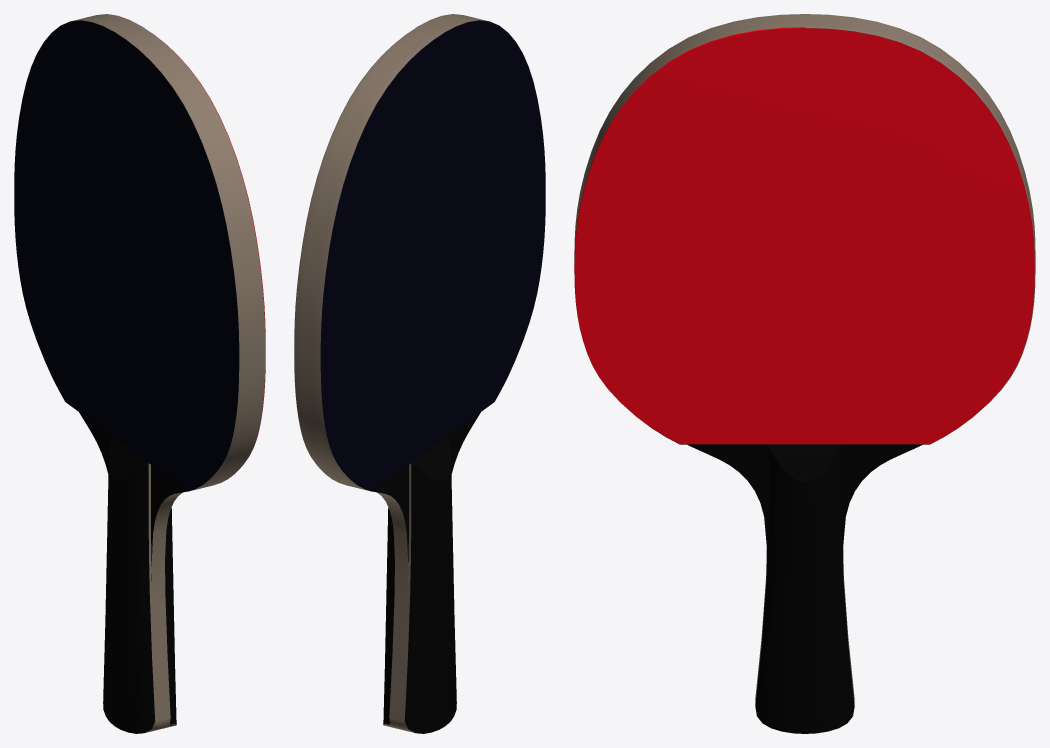
The model's file is racket.glb.
The picture shows the model from 3 angles, left to right: view 1: azimuth 30°, elevation 25°; view 2: azimuth 150°, elevation 25°; view 3: azimuth 270°, elevation 25°; orthographic projection. The views are drawn at different scales.
Visible parts, largest first — view 1: SM_PingPongPaddle; view 2: SM_PingPongPaddle; view 3: SM_PingPongPaddle.
Part boxes in pixels (<box>): SM_PingPongPaddle: <box>14,14,265,733</box>; SM_PingPongPaddle: <box>294,14,545,733</box>; SM_PingPongPaddle: <box>574,14,1035,733</box>.
Bounding box in the file's own units: 0.3046 × 3.75 × 2.24.
